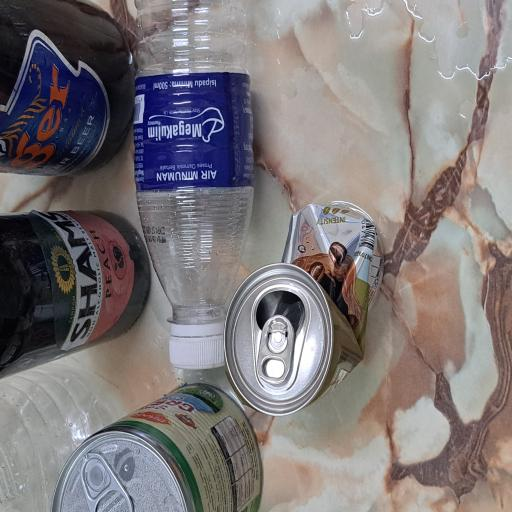can: (71, 298, 235, 511), (0, 69, 97, 350)
glass bottle: (99, 0, 228, 198), (249, 0, 384, 178)
plastic bottle: (143, 174, 384, 340)
plastic bottle cap: (106, 225, 143, 302)
pop tab: (0, 108, 45, 179), (96, 344, 148, 393)
